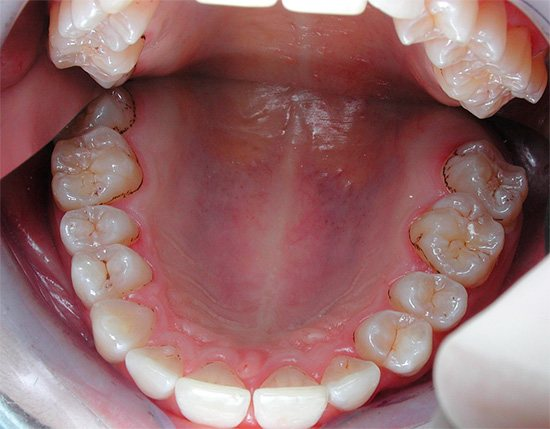LL1BC_decay: (387, 268, 468, 327)
LL1M_decay: (443, 138, 530, 220)
LL2BC_decay: (408, 191, 505, 283)
LLCI_healthy: (253, 368, 326, 428)
LLC_decay: (353, 306, 431, 371)
LLLI_healthy: (323, 373, 380, 408)
LR1BC_decay: (72, 247, 144, 298)
LR1M_decay: (52, 128, 144, 202)
LR2BC_decay: (60, 205, 138, 248)
LRCI_healthy: (176, 364, 250, 426)
LRC_healthy: (91, 301, 152, 358)
LRLI_healthy: (127, 346, 179, 398)
